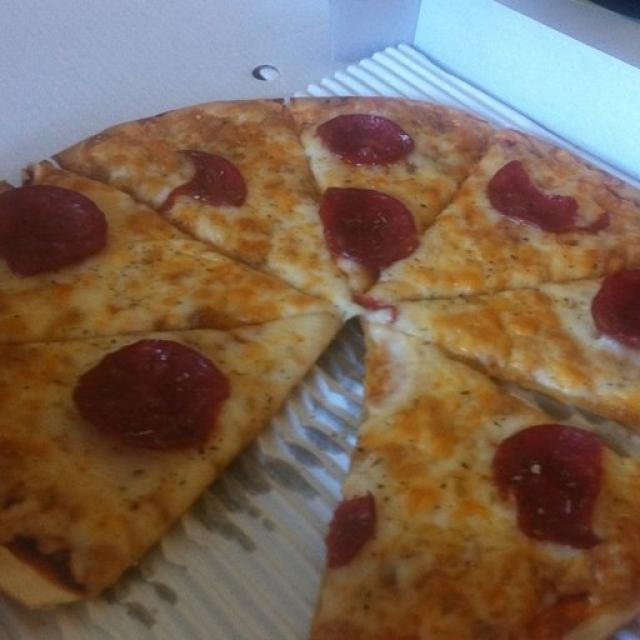Pepperoni: (74, 339, 230, 450), (495, 425, 604, 548), (0, 185, 106, 275), (321, 188, 419, 272), (488, 161, 578, 232), (159, 151, 246, 212), (316, 115, 414, 165), (592, 269, 640, 349)
Pizza: (0, 98, 640, 640)
